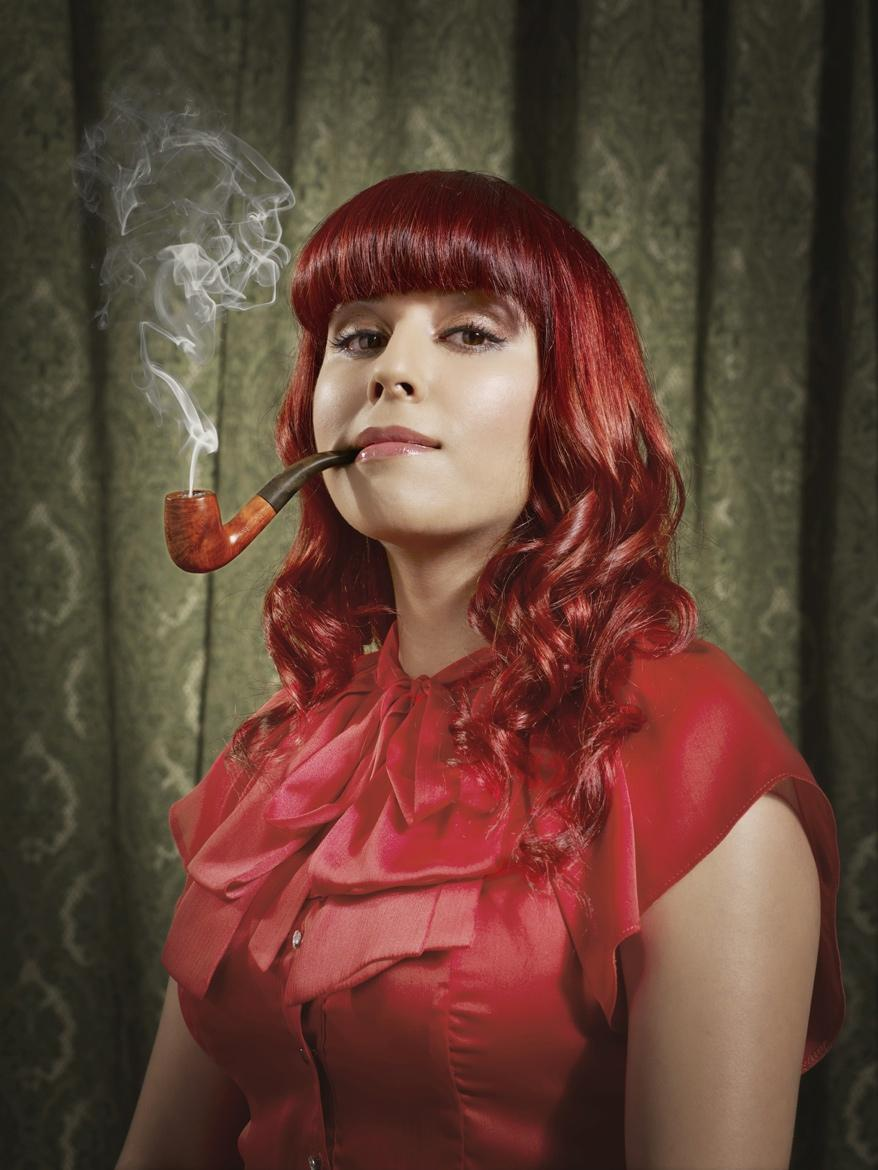trubka: (164, 447, 360, 574)
